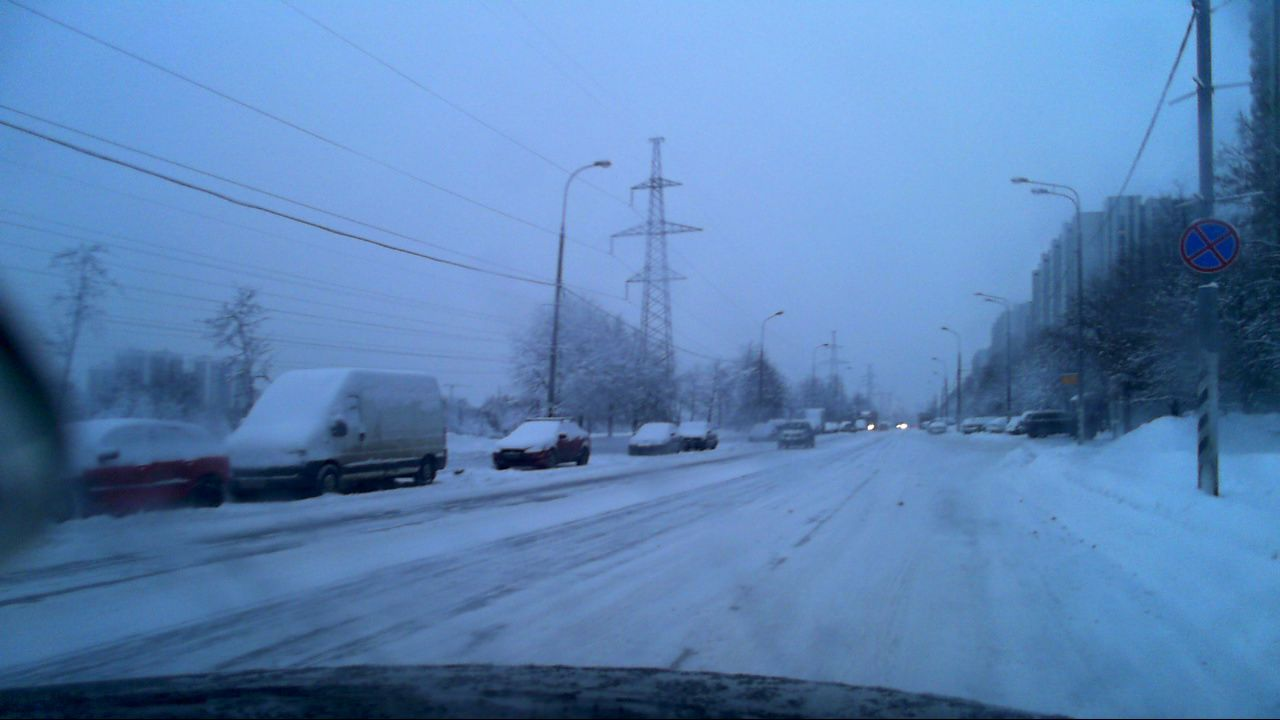No Parking: (1178, 212, 1242, 275)
